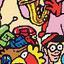waldo: (38, 32, 64, 62)
